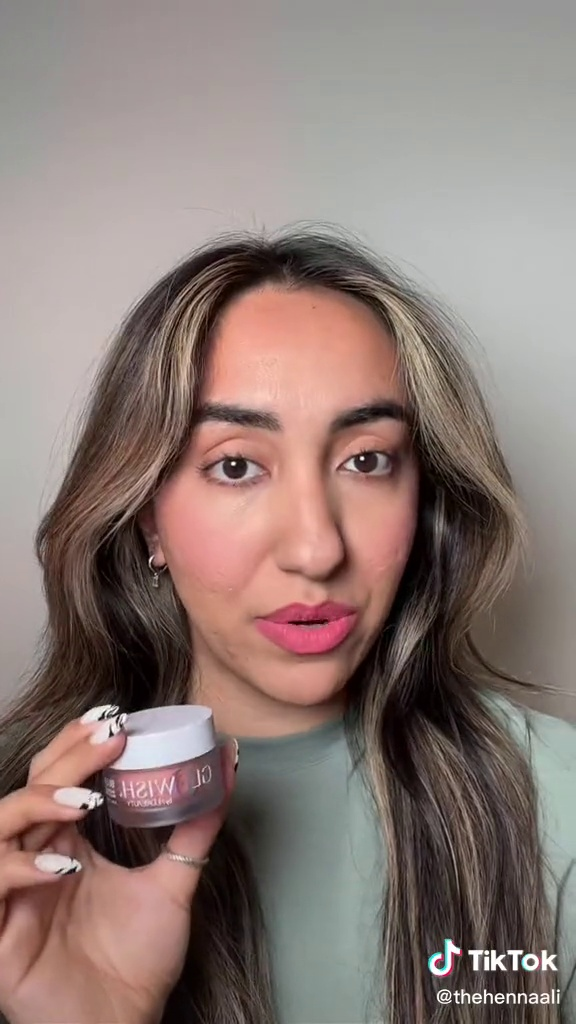train' :'yolo_data/train/images',: (87, 695, 236, 831)
